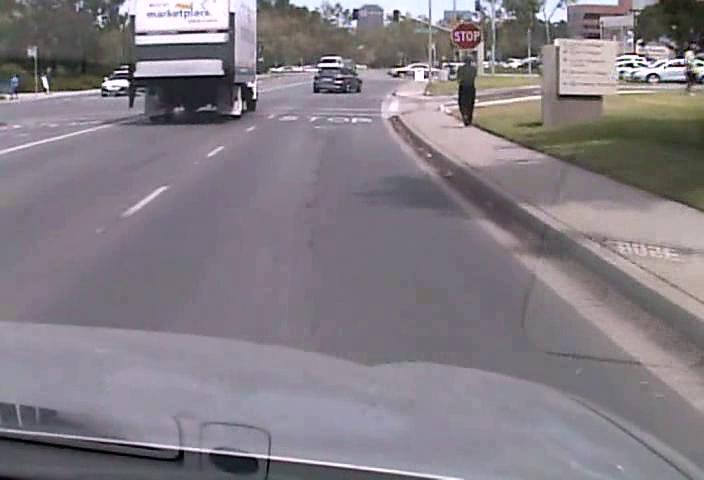stop: (451, 21, 481, 49)
